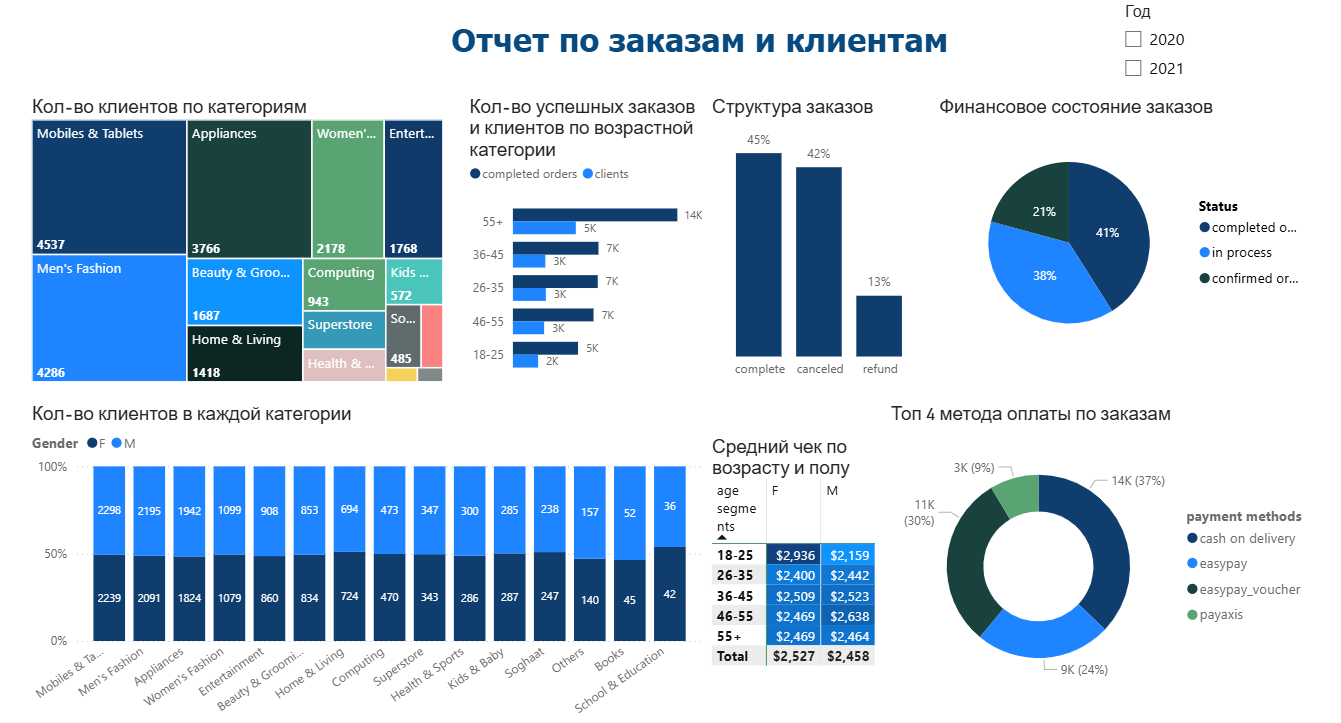

The page's visual inventory and layout, read from the dashboard file:
{"tool":"powerbi","page":{"name":"Лист 2","canvas":[1280,720],"ordinal":2},"visuals":[{"type":"treemap","title":"Кол-во клиентов по категориям","fields":{"Group":["USA.category"],"Values":["Меры.clients"]},"box":[0,96,416,288],"z":0},{"type":"hundredPercentStackedColumnChart","title":"Кол-во клиентов в каждой категории","fields":{"Category":["USA.category"],"Series":["USA.Gender"],"Y":["Count(USA.customer_id)"]},"box":[0,400,672,320],"z":1000},{"type":"pivotTable","title":"Средний чек по возрасту и полу","fields":{"Values":["Меры.avarage revenue per client"],"Rows":["USA.age segments"],"Columns":["USA.Gender"]},"box":[672,432,176,240],"z":2000},{"type":"pieChart","title":"Финансовое состояние заказов","fields":{"Category":["USA.bi_st_name"],"Y":["Меры.orders"]},"box":[896,96,384,272],"z":3000},{"type":"columnChart","title":"Структура заказов","fields":{"Y":["Меры.orders"],"Category":["USA.status"]},"box":[672,96,224,288],"z":4000},{"type":"textbox","box":[160,16,1008,64],"z":5000},{"type":"donutChart","title":"Топ 4 метода оплаты по заказам","fields":{"Y":["Меры.completed orders"],"Series":["USA.payment_method_name"]},"box":[848,400,432,304],"z":6000},{"type":"slicer","fields":{"Values":["USA.order_date.Изменение.Иерархия дат.Год"]},"box":[1072,0,208,96],"z":6001},{"type":"clusteredBarChart","title":"Кол-во успешных заказов и клиентов по возрастной категории","fields":{"Category":["USA.age segments"],"Y":["Меры.completed orders","Меры.clients"]},"box":[432,96,240,288],"z":6002}]}

Visuals, with their boxes on the page's 1280x720 design canvas (x1, y1, x2, y2). These are canvas units, not pixel positions in the 1341x723 screenshot, which may show the page scaled, cropped or inside an application window:
"Кол-во клиентов по категориям" treemap: bbox(0, 96, 416, 384)
"Кол-во клиентов в каждой категории" hundredPercentStackedColumnChart: bbox(0, 400, 672, 720)
"Средний чек по возрасту и полу" pivotTable: bbox(672, 432, 848, 672)
"Финансовое состояние заказов" pieChart: bbox(896, 96, 1280, 368)
"Структура заказов" columnChart: bbox(672, 96, 896, 384)
textbox: bbox(160, 16, 1168, 80)
"Топ 4 метода оплаты по заказам" donutChart: bbox(848, 400, 1280, 704)
slicer - USA.order_date.Изменение.Иерархия дат.Год: bbox(1072, 0, 1280, 96)
"Кол-во успешных заказов и клиентов по возрастной категории" clusteredBarChart: bbox(432, 96, 672, 384)
